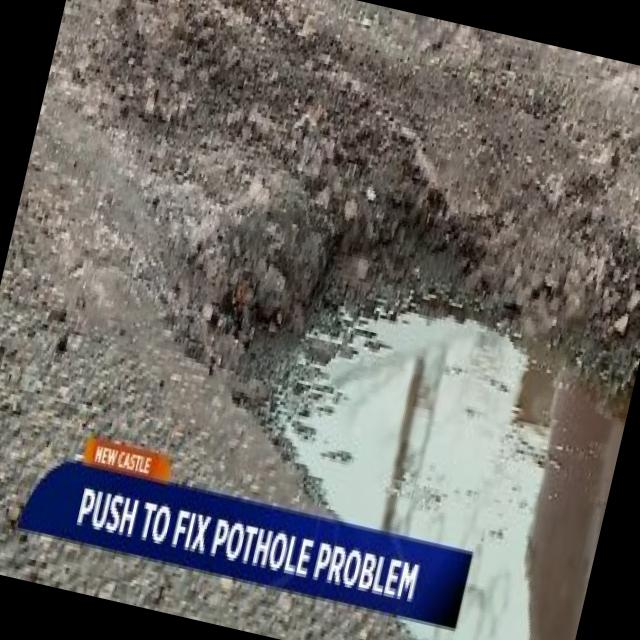Potholes: (122, 41, 640, 640)
